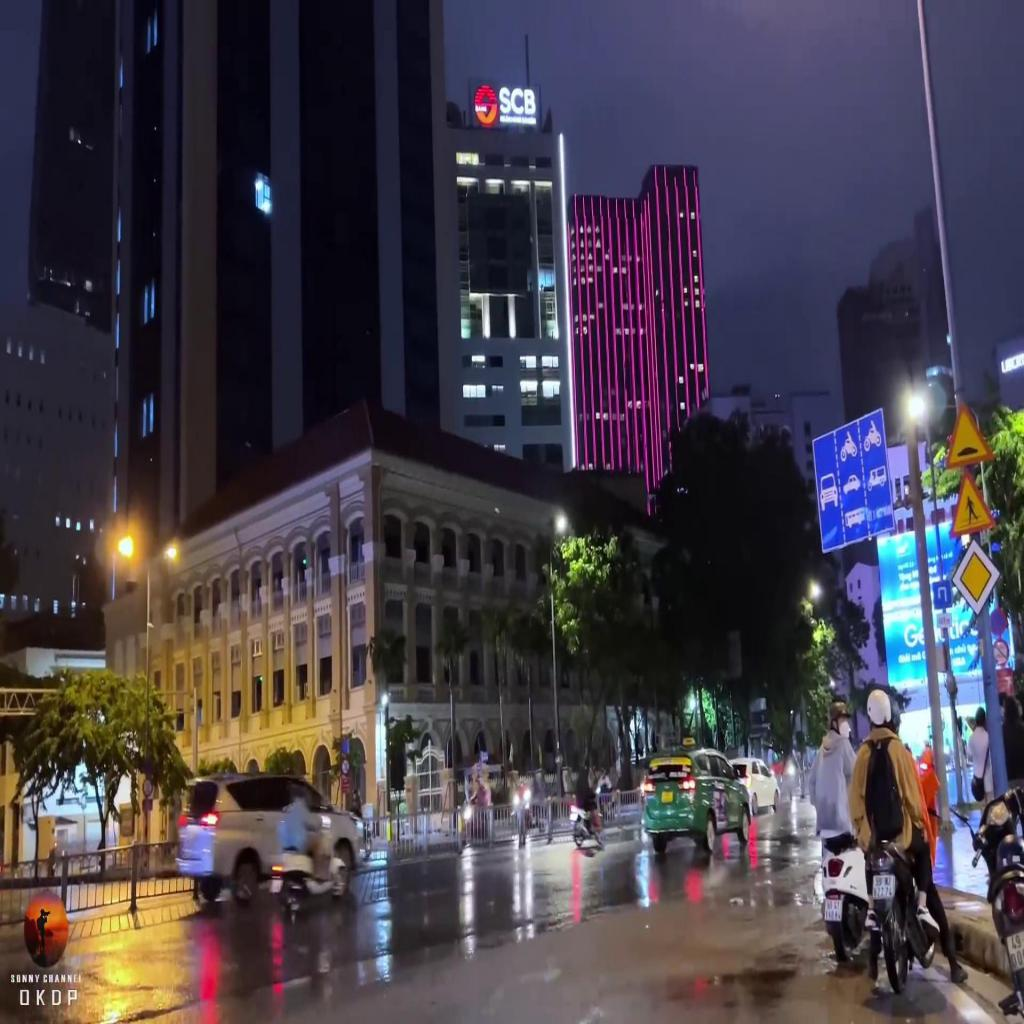cho_quay_xe: (932, 581, 952, 609)
chu_y_nguoi_di_bo_cat_ngang: (949, 468, 997, 536)
duong_co_song_map_mo_nhan_tao: (946, 396, 994, 468)
duong_uu_tien: (951, 538, 1000, 616)
lan_duong_cho_tung_xe_theo_vach_ke_duong: (813, 410, 894, 554)
